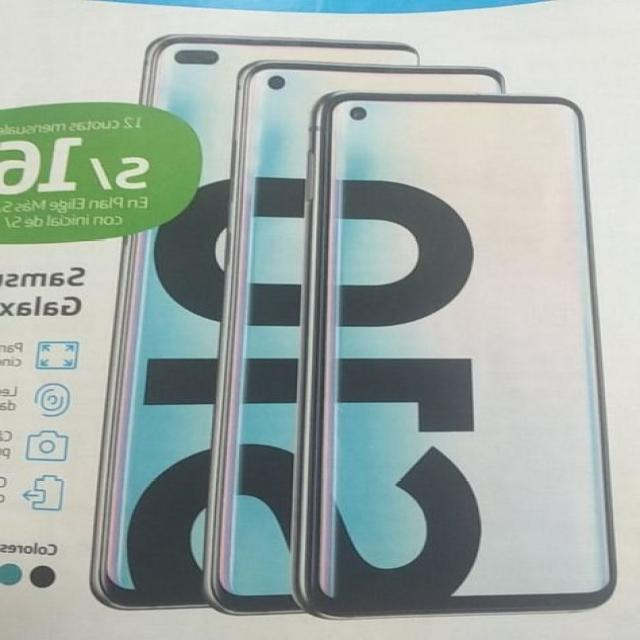mobile: (95, 35, 424, 609), (202, 66, 508, 619), (305, 95, 612, 617)
